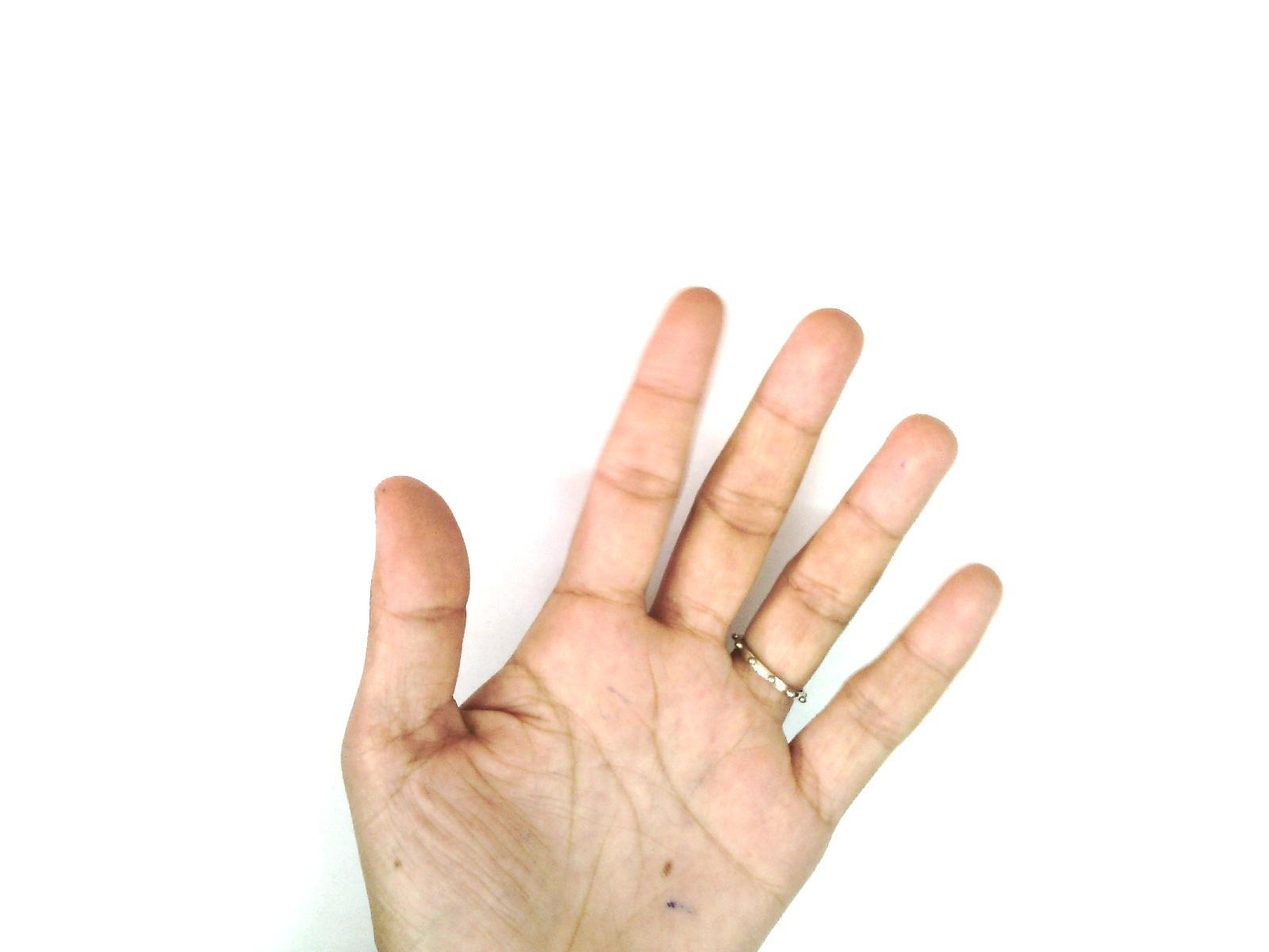open_palm: (338, 286, 1005, 951)
